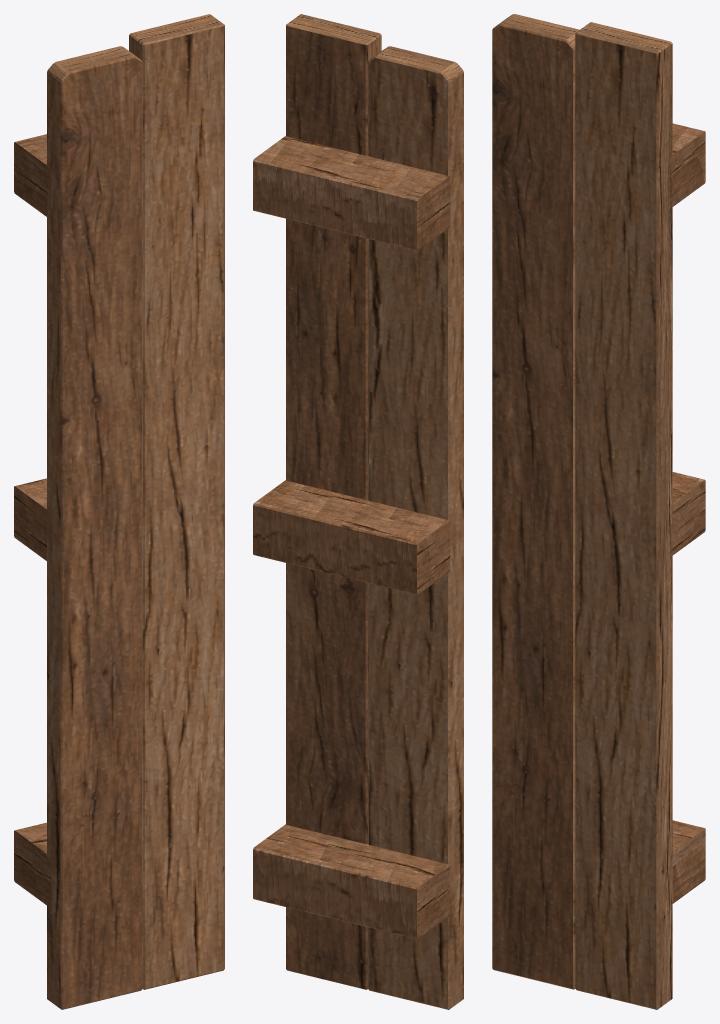
File: TwoPlankInfill_0.5Wx2.75Hx0.25D.fbx
3 views of the same model, side by side, from view 1: azimuth 30°, elevation 25°; view 2: azimuth 150°, elevation 25°; view 3: azimuth 330°, elevation 25° (orthographic).
Visible parts, largest first — view 1: Wood_TwoPlankInfill; view 2: Wood_TwoPlankInfill; view 3: Wood_TwoPlankInfill.
Part boxes in pixels (x1=…): Wood_TwoPlankInfill: x1=14, y1=14, x2=224, y2=1009; Wood_TwoPlankInfill: x1=253, y1=14, x2=463, y2=1009; Wood_TwoPlankInfill: x1=492, y1=14, x2=705, y2=1009.
Bounding box in the file's own units: 0.5 × 2.75 × 0.25.
